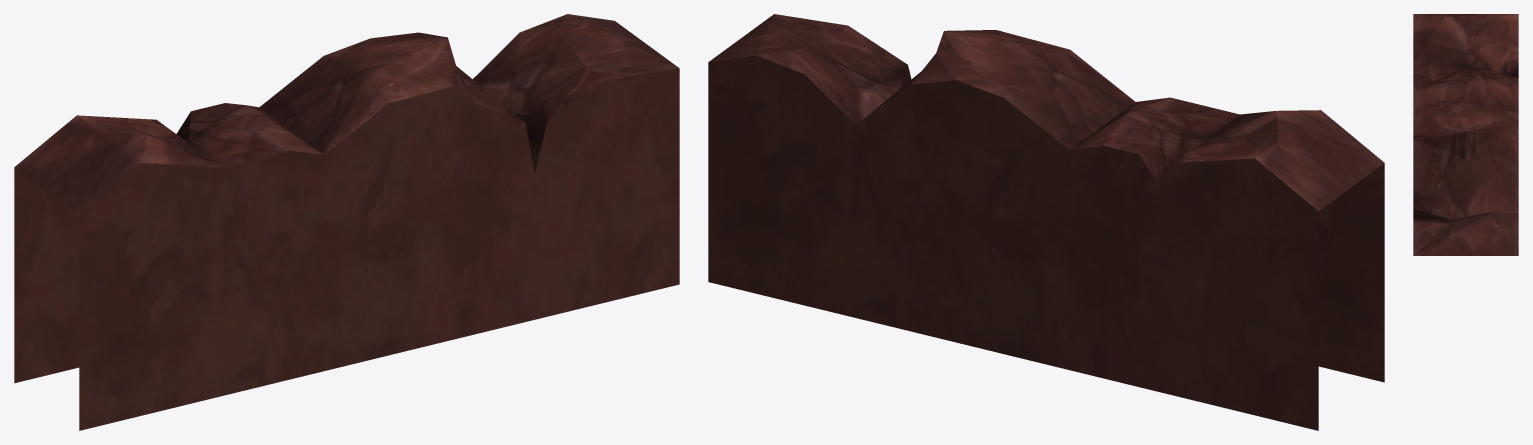
File: lava_broken_straight_01.fbx
3 renders of one model, left to right at view 1: azimuth 30°, elevation 25°; view 2: azimuth 150°, elevation 25°; view 3: azimuth 270°, elevation 25°, orthographic. The views are drawn at different scales.
Parts seen in each view (by area): view 1: obj1.019; view 2: obj1.019; view 3: obj1.019.
Boxes of the visible parts, x1,y1,x2,y2 form: obj1.019: [14, 14, 679, 430]; obj1.019: [708, 14, 1384, 430]; obj1.019: [1413, 14, 1518, 255].
Bounding box in the file's own units: 4 × 1.73 × 0.75.
